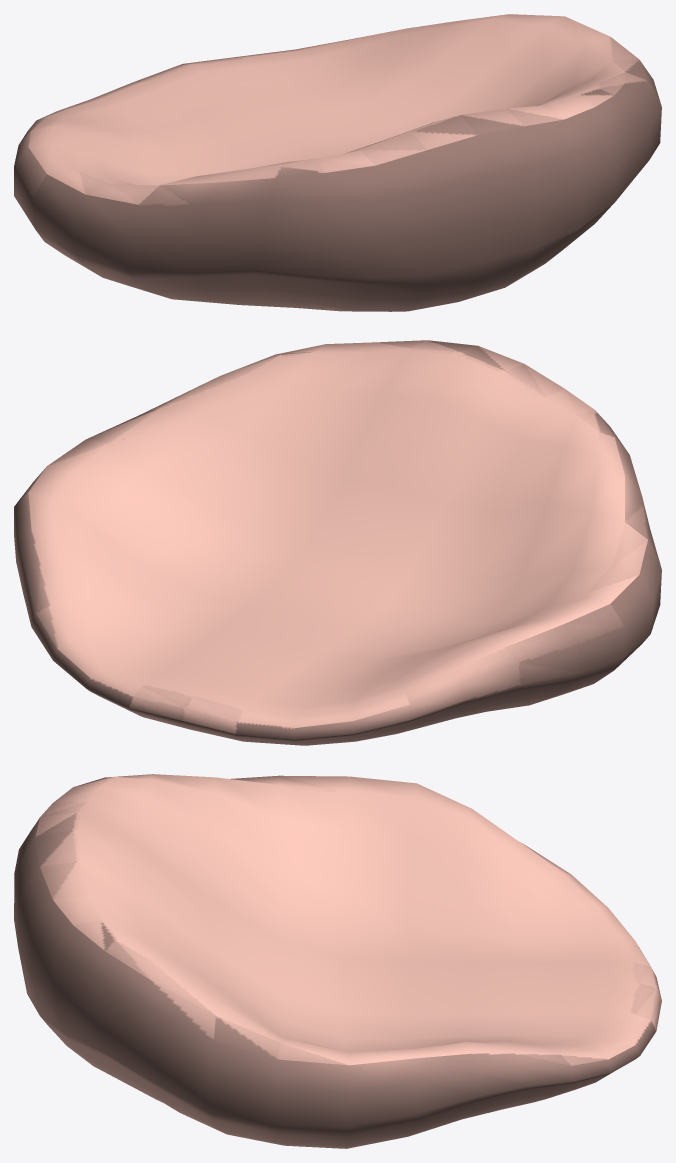
File: CamaPerro.fbx
3 views of the same model, one above another, from view 1: azimuth 30°, elevation 25°; view 2: azimuth 150°, elevation 25°; view 3: azimuth 270°, elevation 25° (orthographic). The views are drawn at different scales.
Parts seen in each view (by area): view 1: Cama; view 2: Cama; view 3: Cama.
Part boxes in pixels (x1,y1,x2,y2): Cama: [14, 14, 661, 311]; Cama: [14, 340, 661, 745]; Cama: [14, 774, 661, 1148].
Size of the model in its own units: 366 by 124 by 331.
Materials: 1 (1 with a texture image).
